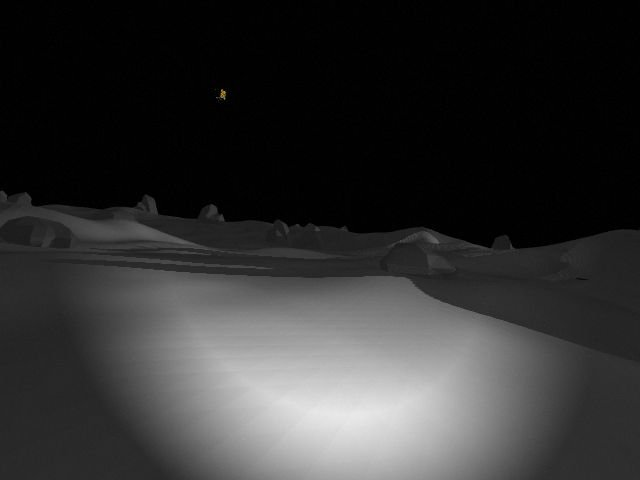cubesat: (209, 87, 229, 101)
